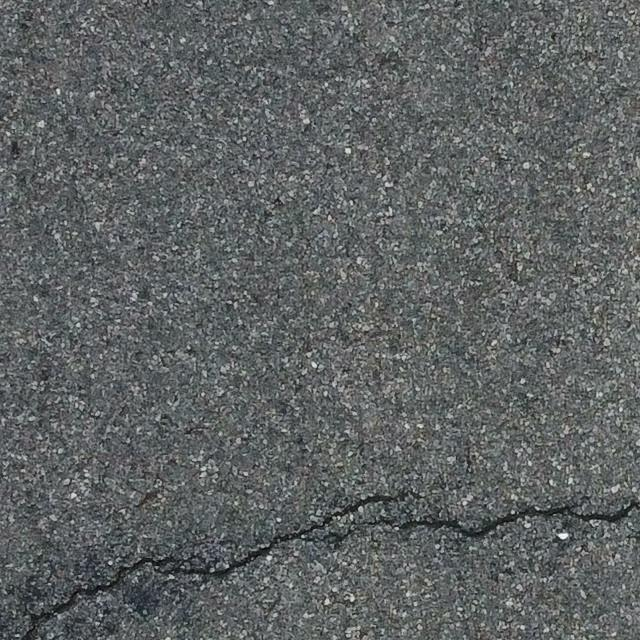TransverseCrack: (24, 489, 640, 638)
